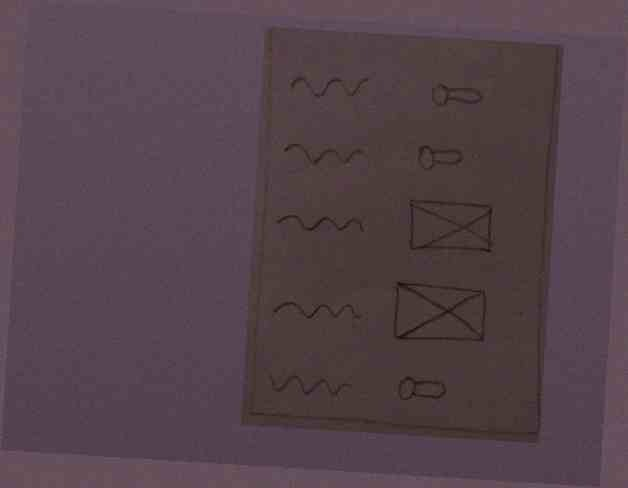image: (389, 277, 490, 347), (401, 192, 499, 260)
switch: (391, 365, 455, 407), (423, 76, 487, 117), (410, 136, 474, 177)
text: (268, 290, 365, 329), (260, 366, 357, 405), (274, 202, 366, 240), (279, 137, 366, 170), (284, 69, 370, 102)
